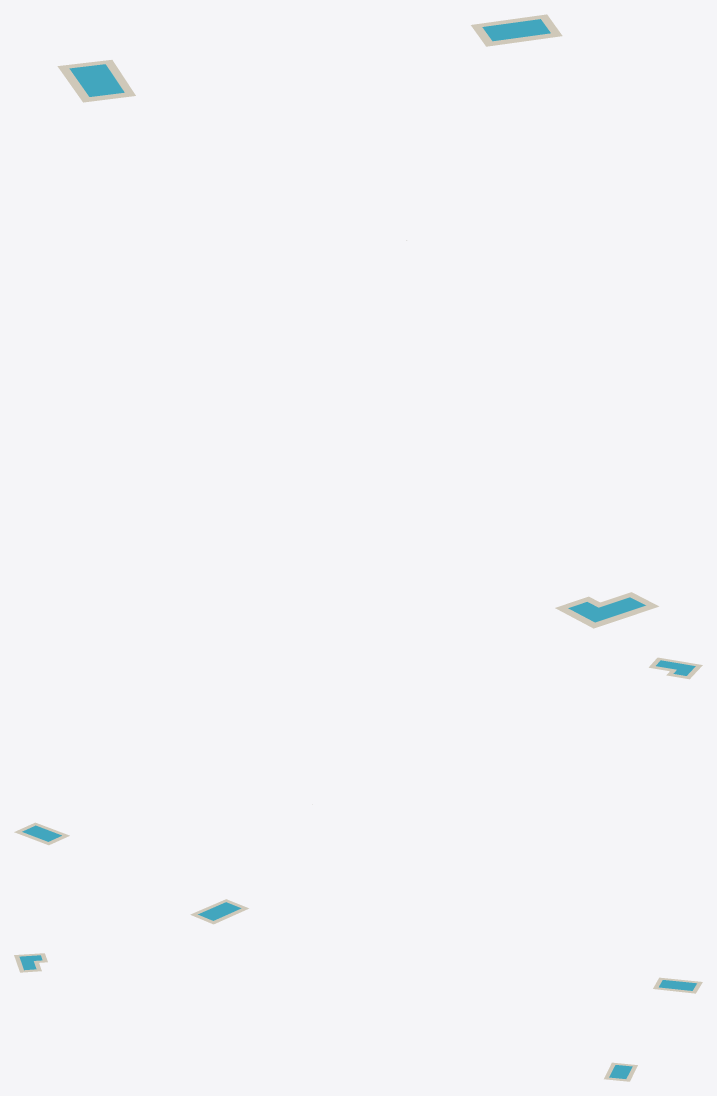
File: pbpool_m19_m15.glb
3 views of the same model, one above another, from view 1: azimuth 30°, elevation 25°; view 2: azimuth 150°, elevation 25°; view 3: azimuth 270°, elevation 25° (orthographic). The views are drawn at different scales.
Parts seen in each view (by area): view 1: pbpool_m19_m15_lod0; view 2: pbpool_m19_m15_lod0; view 3: pbpool_m19_m15_lod0.
Part boxes in pixels (box(x1,y1,x2,y2)): pbpool_m19_m15_lod0: box(57, 14, 658, 628); pbpool_m19_m15_lod0: box(14, 657, 702, 924); pbpool_m19_m15_lod0: box(14, 953, 702, 1081).
Size of what is drawn, in the model's own units: 92.99 by 3.82 by 192.
